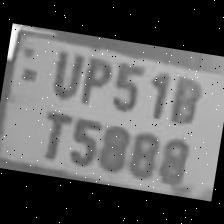1: (138, 64, 174, 119)
5: (104, 56, 147, 114), (62, 109, 103, 166)
8: (152, 128, 194, 188), (92, 116, 131, 176), (124, 124, 162, 182)
B: (162, 68, 206, 126)
P: (74, 50, 114, 110)
T: (31, 102, 74, 162)
U: (44, 42, 86, 100)
